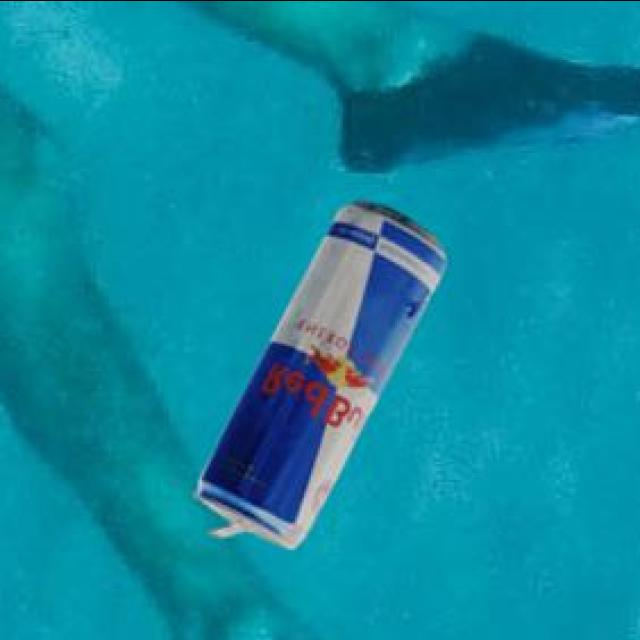logam: (199, 203, 448, 550)
